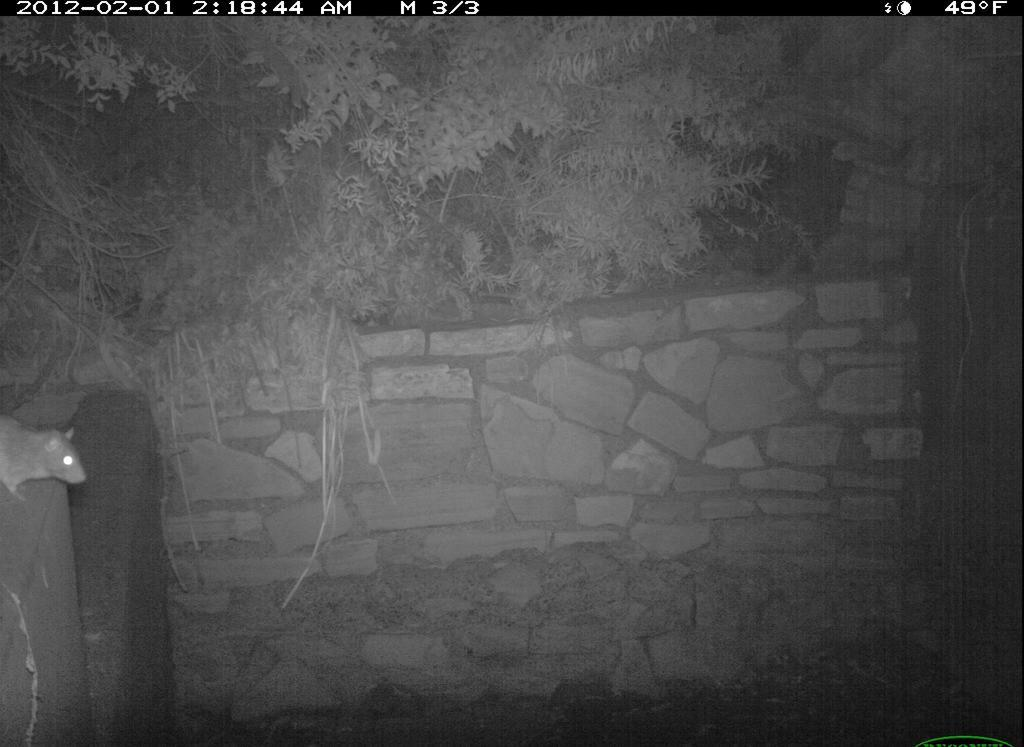rodent: (2, 402, 95, 509)
